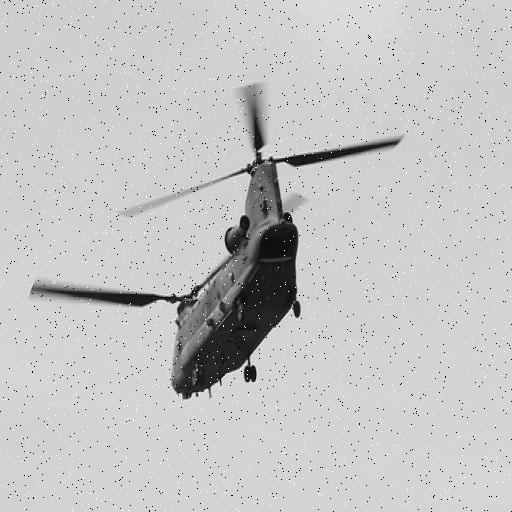helicopter: (32, 86, 406, 399)
